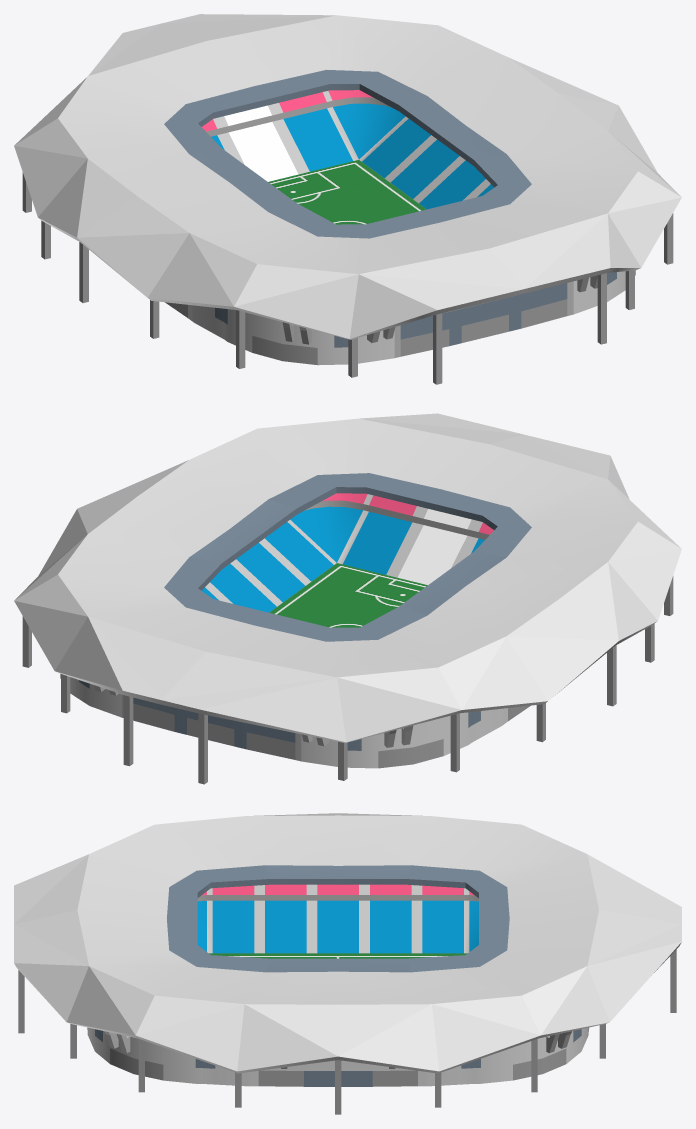
Rendered from stadium3.fbx.
3 renders of one model, top to bottom at view 1: azimuth 30°, elevation 25°; view 2: azimuth 150°, elevation 25°; view 3: azimuth 270°, elevation 25°, orthographic. The views are drawn at different scales.
Visible parts, largest first — view 1: FSt_Fra_003; view 2: FSt_Fra_003; view 3: FSt_Fra_003.
Part boxes in pixels (x1,y1,x2,y2): FSt_Fra_003: (14, 14, 681, 384); FSt_Fra_003: (14, 413, 681, 784); FSt_Fra_003: (14, 813, 681, 1114).
Size of the model in its own units: 8.6 by 1.4 by 9.98.
Materials: 8 (1 with a texture image).
